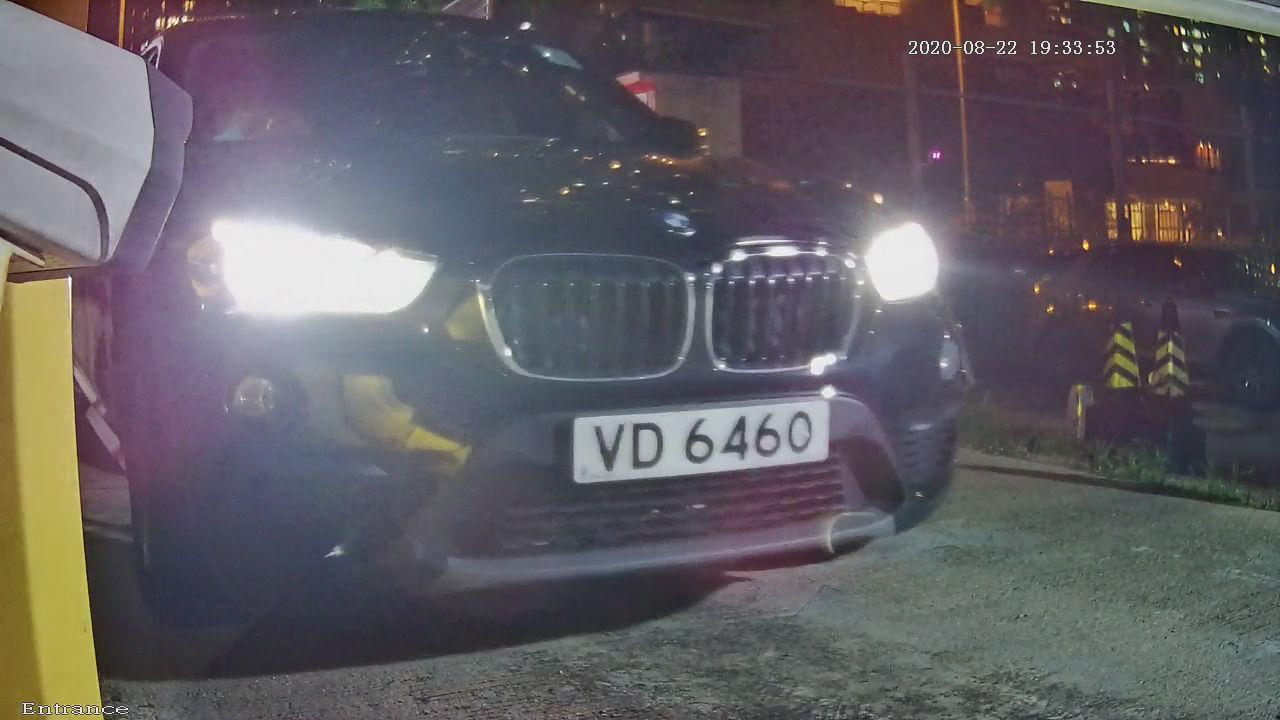Car: (6, 10, 1018, 650)
License Plate: (527, 370, 881, 523)
